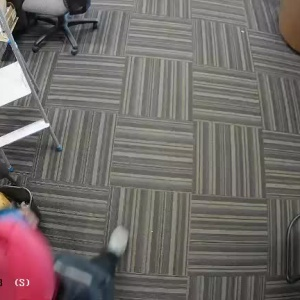person: (2, 188, 125, 300)
